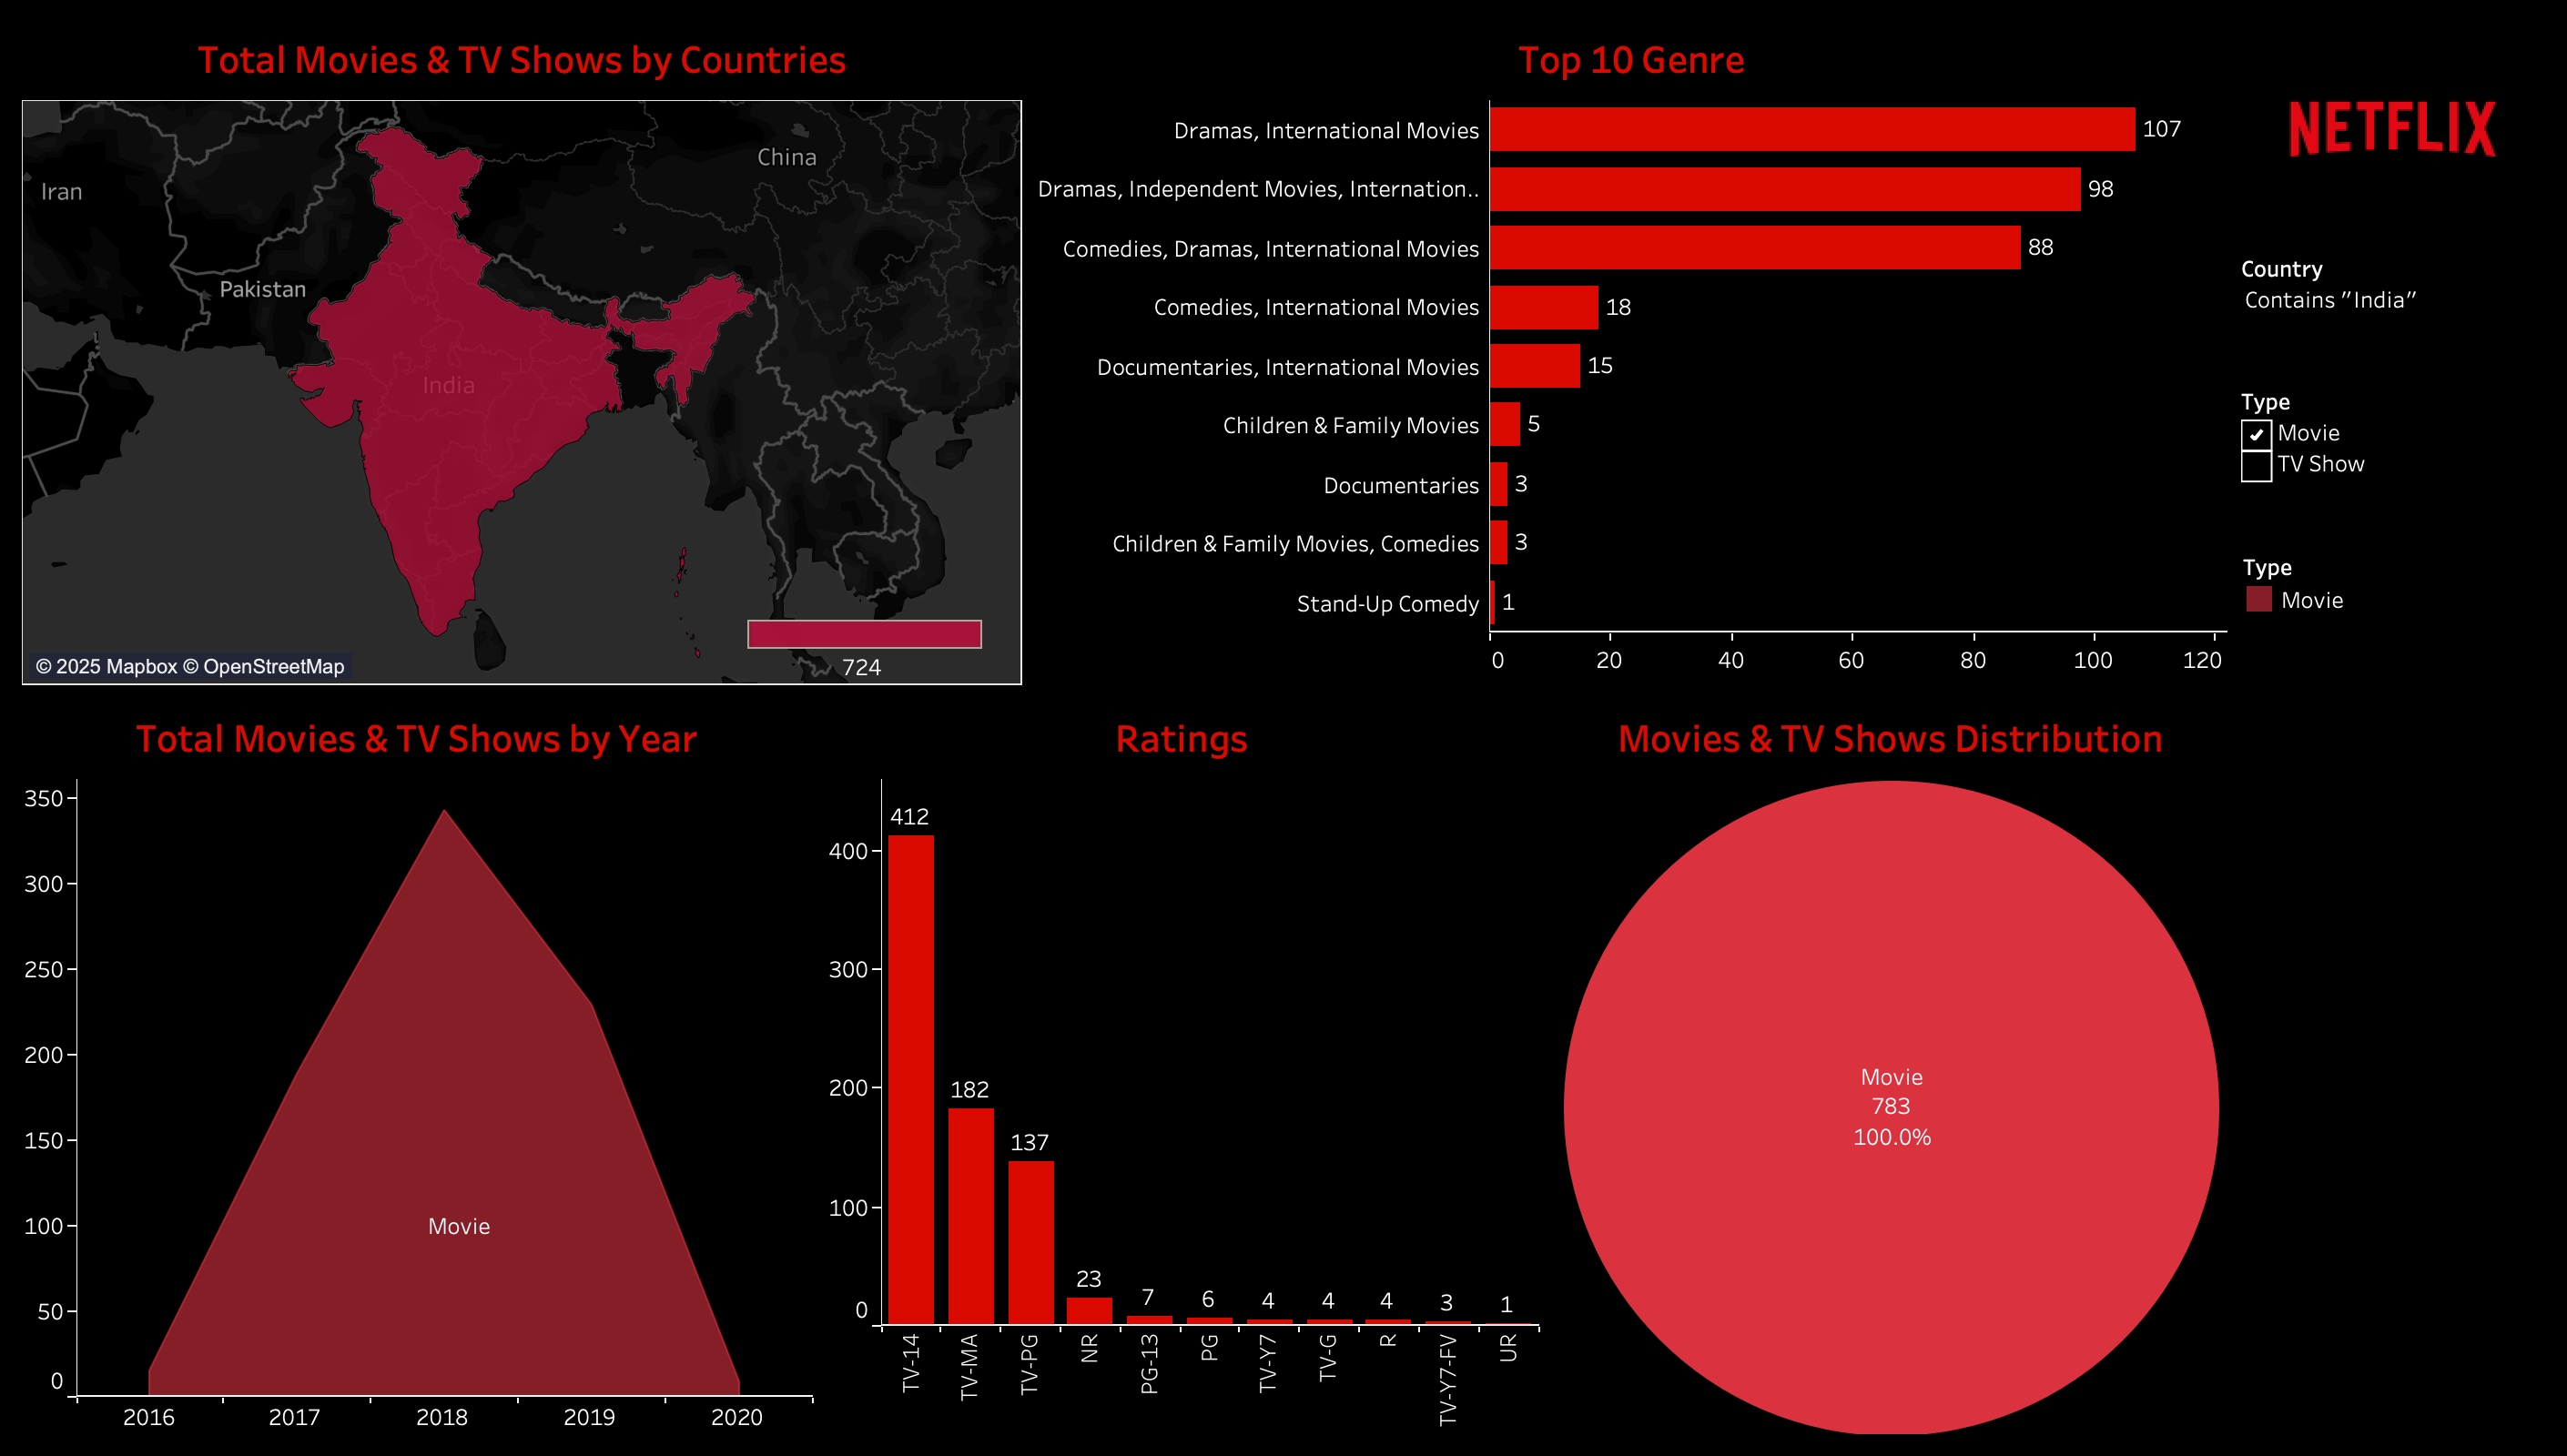

Layout of this report page (visuals, bound fields, positions):
{"tool":"tableau","page":{"name":"Netflix","canvas":[1410,800],"ordinal":0},"visuals":[{"type":"worksheet","title":"Total Movies & TV Shows by Countries","mark":"Multipolygon","box":[8,8,558.3,373]},{"type":"worksheet","title":"Top 10 Genre","mark":"Automatic","rows":["listed_in"],"cols":["show_id"],"box":[566.3,8,660.7,373]},{"type":"image","param":"/Users/siya/Downloads/Netflix Dashboard/Netflix logo.png","box":[1227,8,175,126]},{"type":"filter","title":"Total Movies & TV Shows by Year","param":"[federated.1kptx0v0jbjw831bnegm413axtkj].[none:country:nk]","box":[1227,134,175,73]},{"type":"filter","title":"Total Movies & TV Shows by Year","param":"[federated.1kptx0v0jbjw831bnegm413axtkj].[none:type:nk]","box":[1227,207,175,90]},{"type":"legend","title":"Total Movies & TV Shows by Year","param":"[federated.1kptx0v0jbjw831bnegm413axtkj].[none:type:nk]","box":[1227,297,175,82]},{"type":"legend","title":"Total Movies & TV Shows by Countries","param":"[federated.1kptx0v0jbjw831bnegm413axtkj].[ctd:show_id:qk]","box":[407,337,137,34]},{"type":"worksheet","title":"Total Movies & TV Shows by Year","mark":"Area","rows":["show_id"],"cols":["date_added"],"box":[8,381,442.4,411]},{"type":"worksheet","title":"Ratings","mark":"Automatic","rows":["show_id"],"cols":["rating"],"box":[450.4,381,399.3,411]},{"type":"worksheet","title":"Movies & TV Shows Distribution","mark":"Circle","box":[849.7,381,377.3,411]}]}

Visuals, with their boxes in screenshot pixels (x1, y1, x2, y2), scaled from the page's 1410x800 canvas onto the 2567x1456 screenshot:
"Total Movies & TV Shows by Countries" worksheet (Multipolygon marks): region(15, 15, 1031, 693)
"Top 10 Genre" worksheet: region(1031, 15, 2234, 693)
image: region(2234, 15, 2552, 244)
"Total Movies & TV Shows by Year" filter: region(2234, 244, 2552, 377)
"Total Movies & TV Shows by Year" filter: region(2234, 377, 2552, 541)
"Total Movies & TV Shows by Year" legend: region(2234, 541, 2552, 690)
"Total Movies & TV Shows by Countries" legend: region(741, 613, 990, 675)
"Total Movies & TV Shows by Year" worksheet (Area marks): region(15, 693, 820, 1441)
"Ratings" worksheet: region(820, 693, 1547, 1441)
"Movies & TV Shows Distribution" worksheet (Circle marks): region(1547, 693, 2234, 1441)
